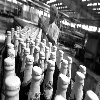beer: (27, 47, 44, 100)
